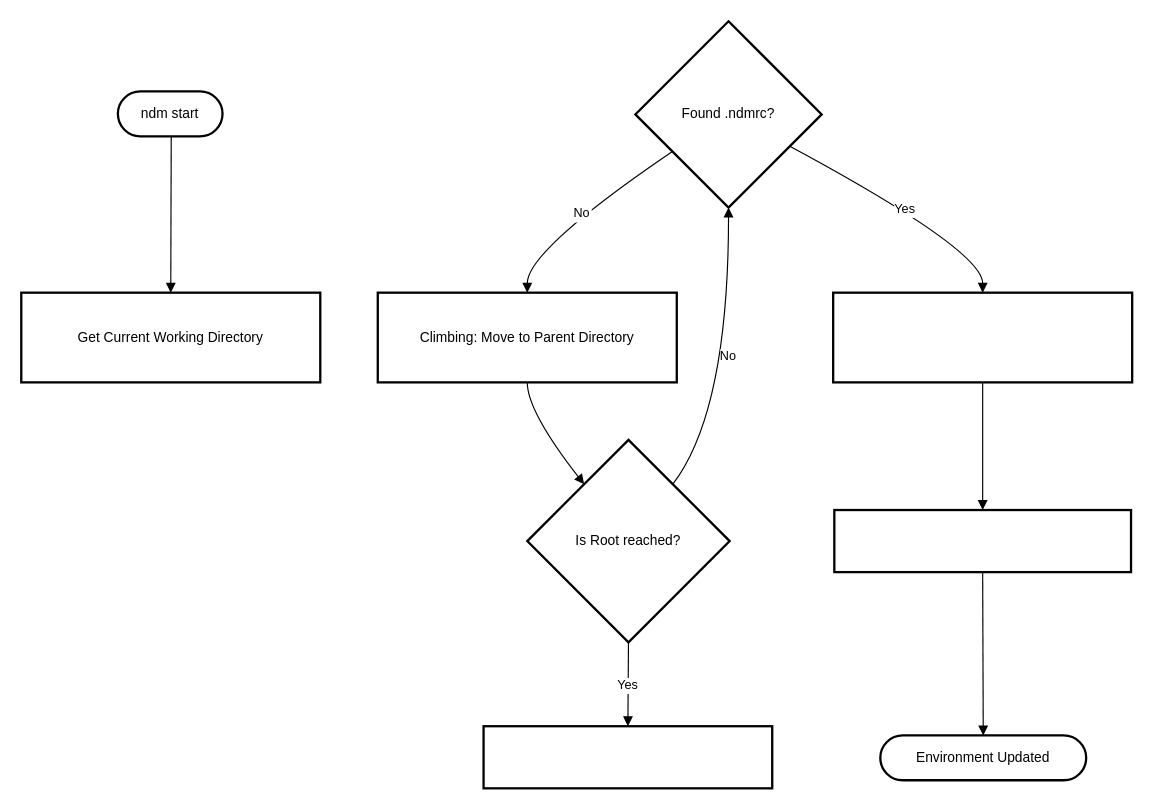
The diagram is 1152 pixels wide and 808 high, and some of its shapes have lost their labels. Here are the shapes that lost their labels. From the top down, the centre of each, then its label:
the point at 982,337: open_file: Read Version from .ndmrc
the point at 982,540: Execute: use version_buffer
the point at 627,756: log_error: No .ndmrc found
